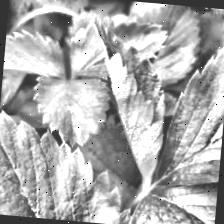Powdery Mildew Leaf: (74, 14, 174, 189), (152, 32, 224, 191)
